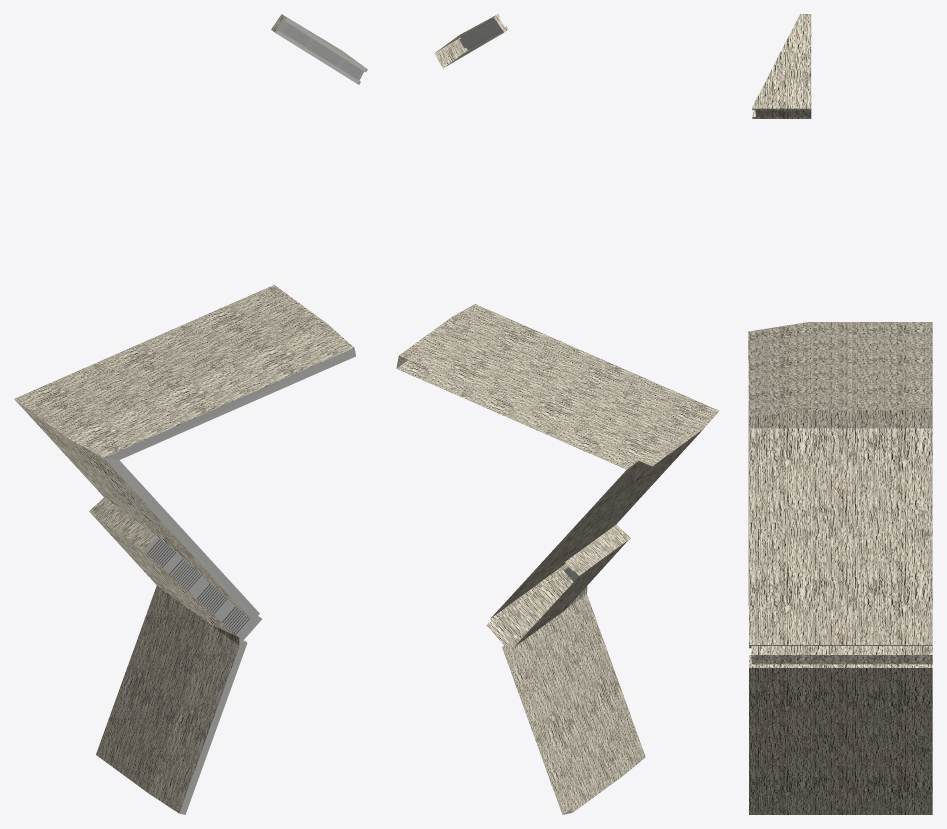
The model's file is Falgi_myyr.obj.
3 renders of one model, left to right at view 1: azimuth 30°, elevation 25°; view 2: azimuth 150°, elevation 25°; view 3: azimuth 270°, elevation 25°, orthographic. The views are drawn at different scales.
Parts seen in each view (by area): view 1: Falgi_myyr; view 2: Falgi_myyr; view 3: Falgi_myyr.
Boxes of the visible parts, left/top/right/bottom form: Falgi_myyr: left=14, top=14, right=367, bottom=814; Falgi_myyr: left=396, top=14, right=719, bottom=814; Falgi_myyr: left=748, top=14, right=932, bottom=814.
Size of the model in its own units: 50.31 by 131 by 25.06.
